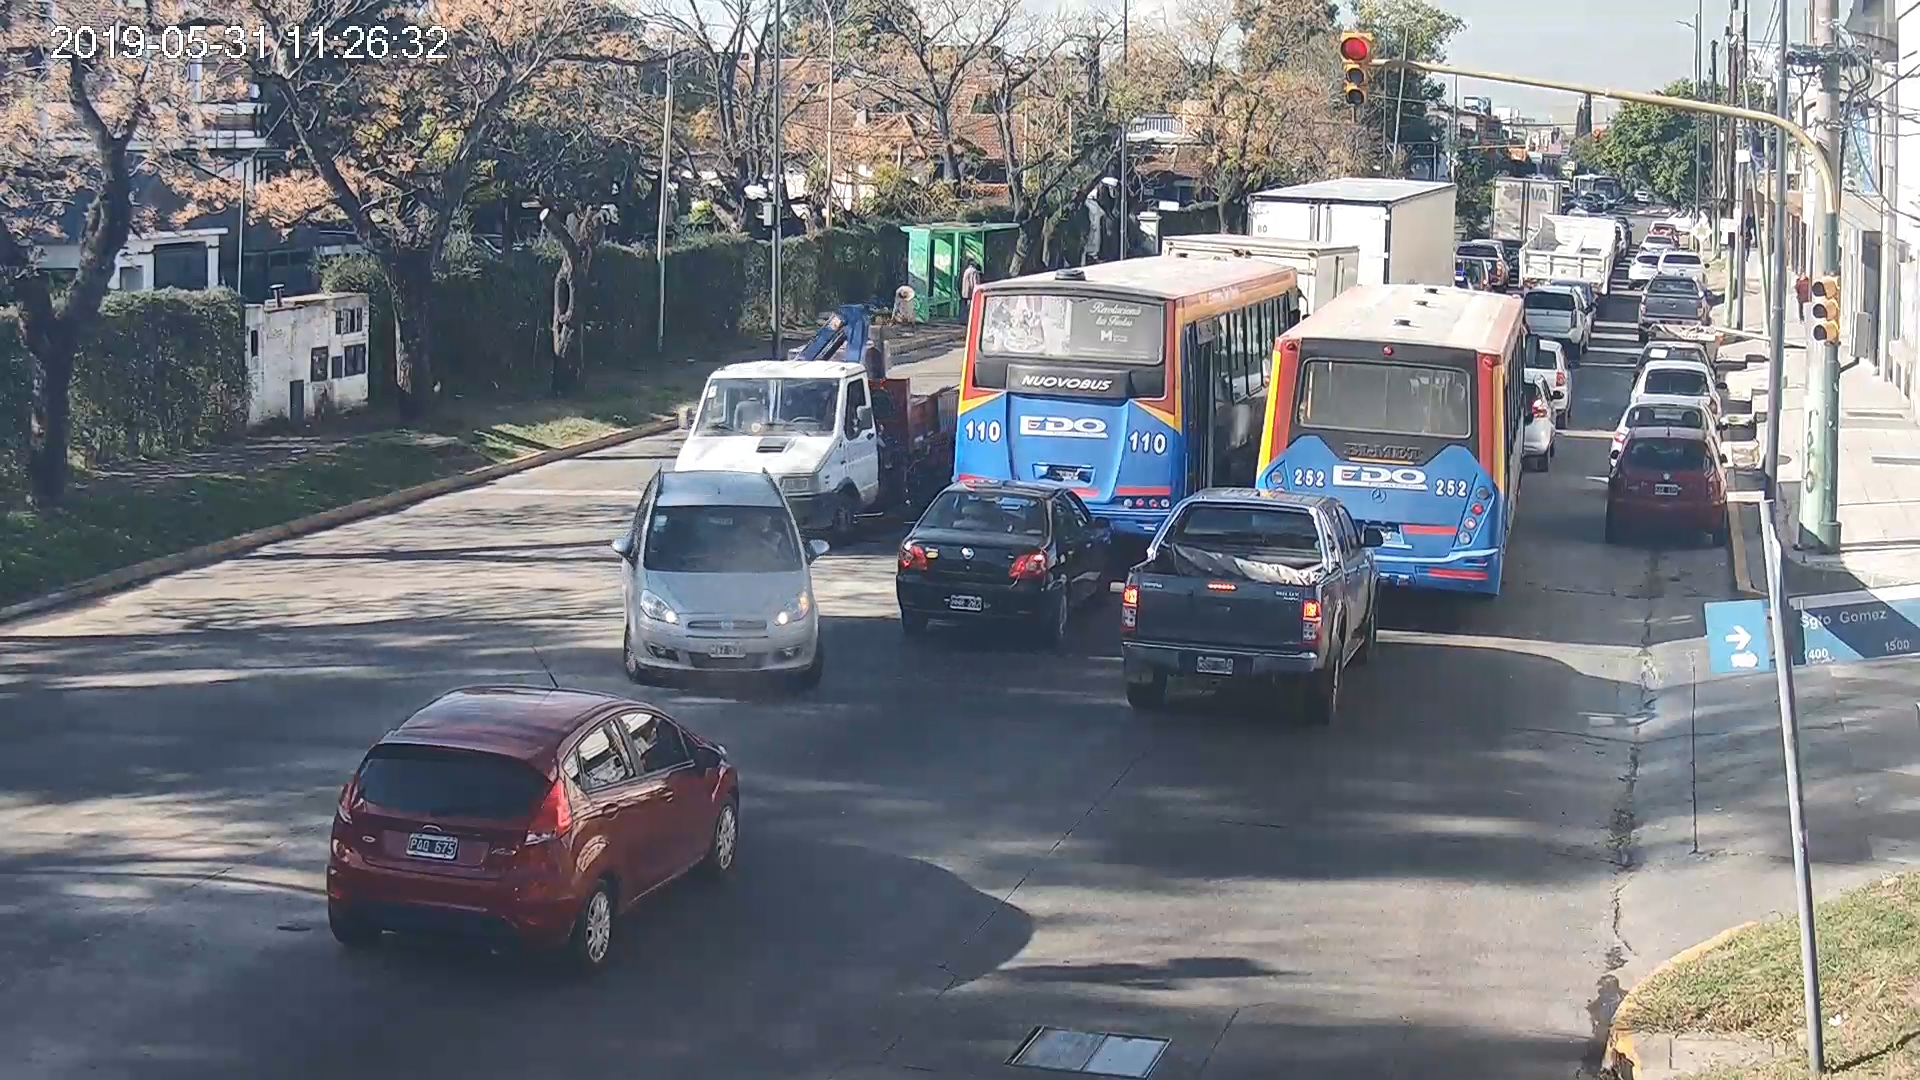bus: (1262, 284, 1538, 601), (963, 253, 1261, 493)
car: (324, 687, 742, 971), (1124, 489, 1383, 709), (618, 471, 828, 687), (891, 477, 1112, 647), (1611, 434, 1724, 538)
